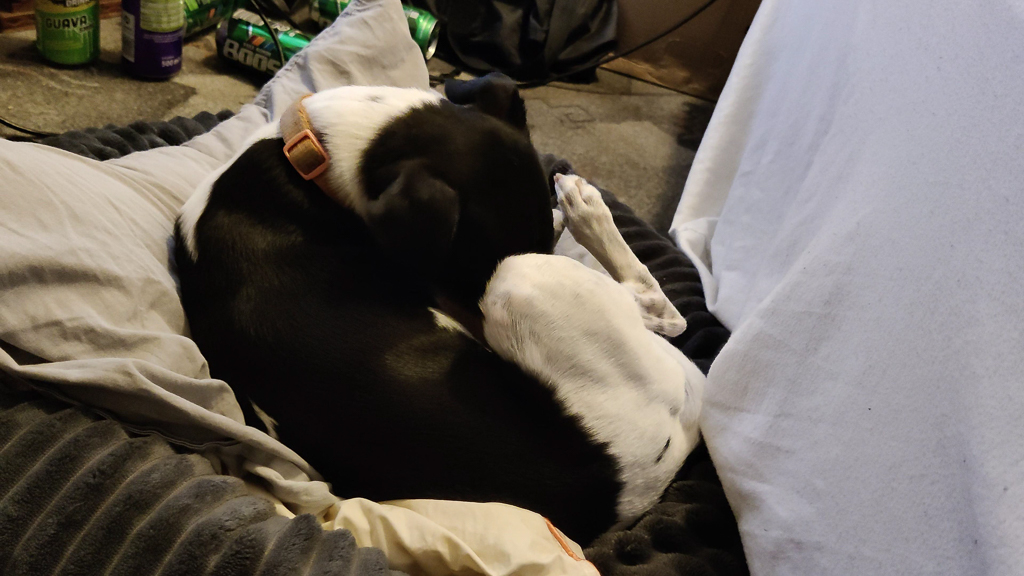Dog: (149, 61, 734, 568)
